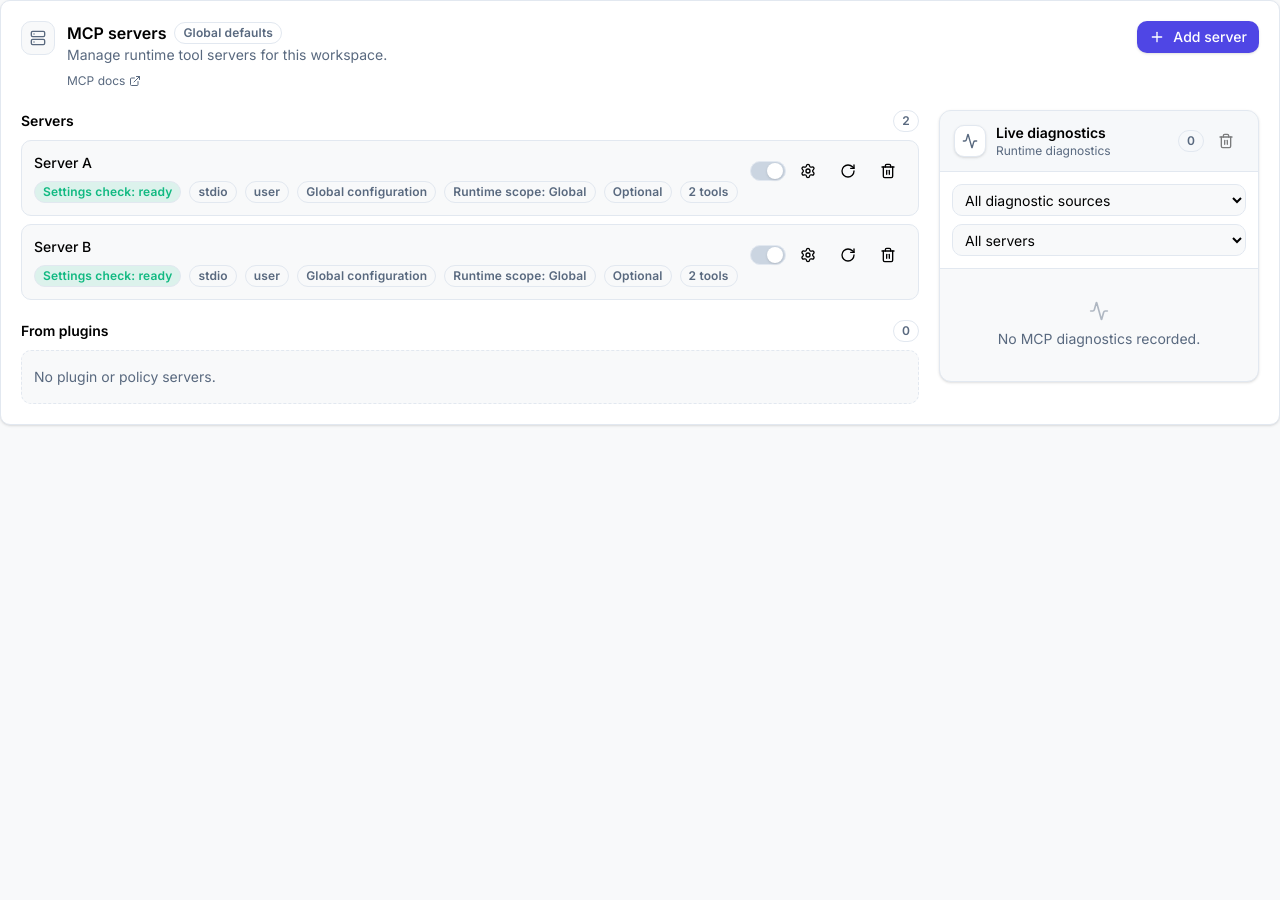
MCPManager › ignores stale config detail responses after opening another server
This screenshot has width=1280, height=900.
Click the button named "Configure Server A" at (808, 171), box [790,153,826,189]
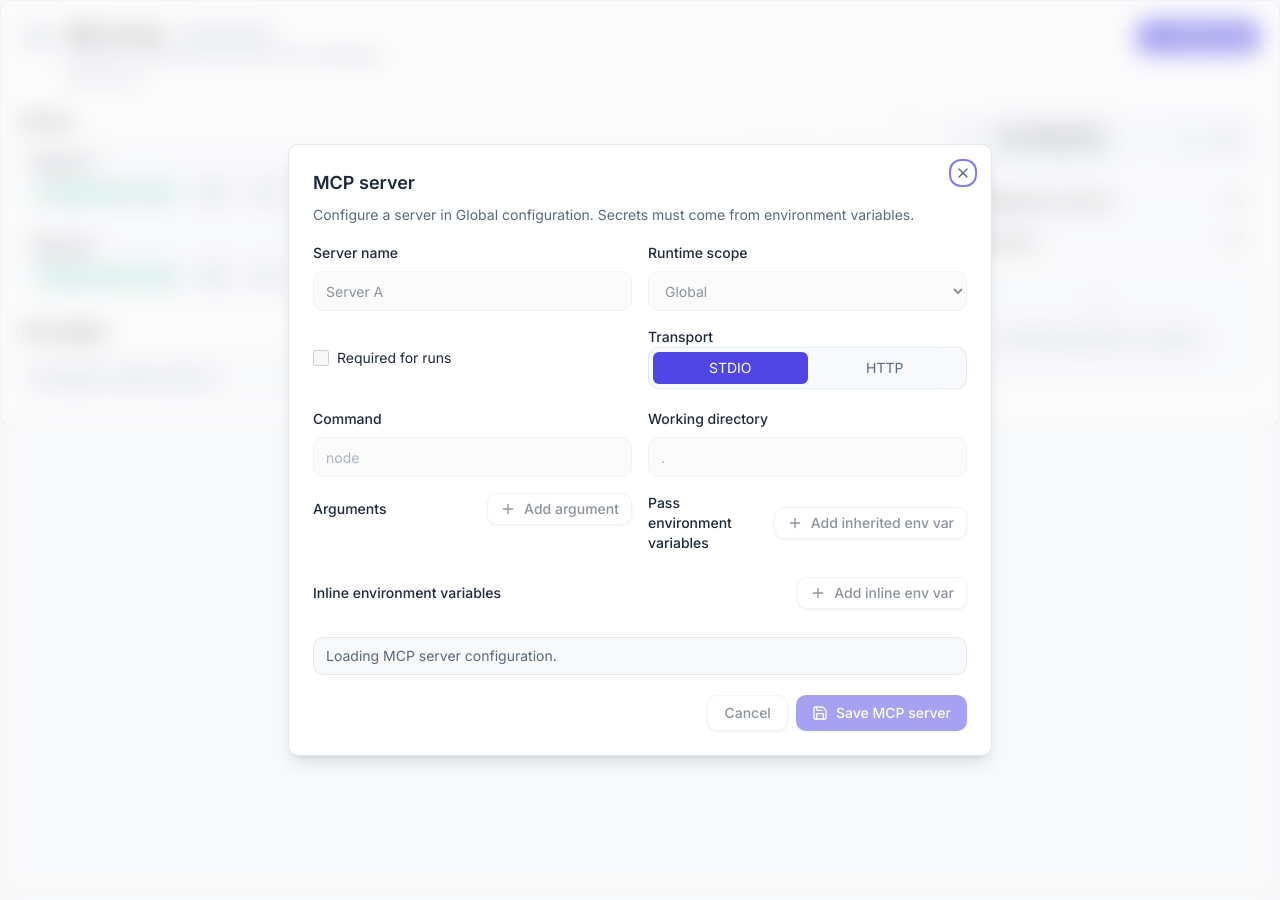
Press Escape
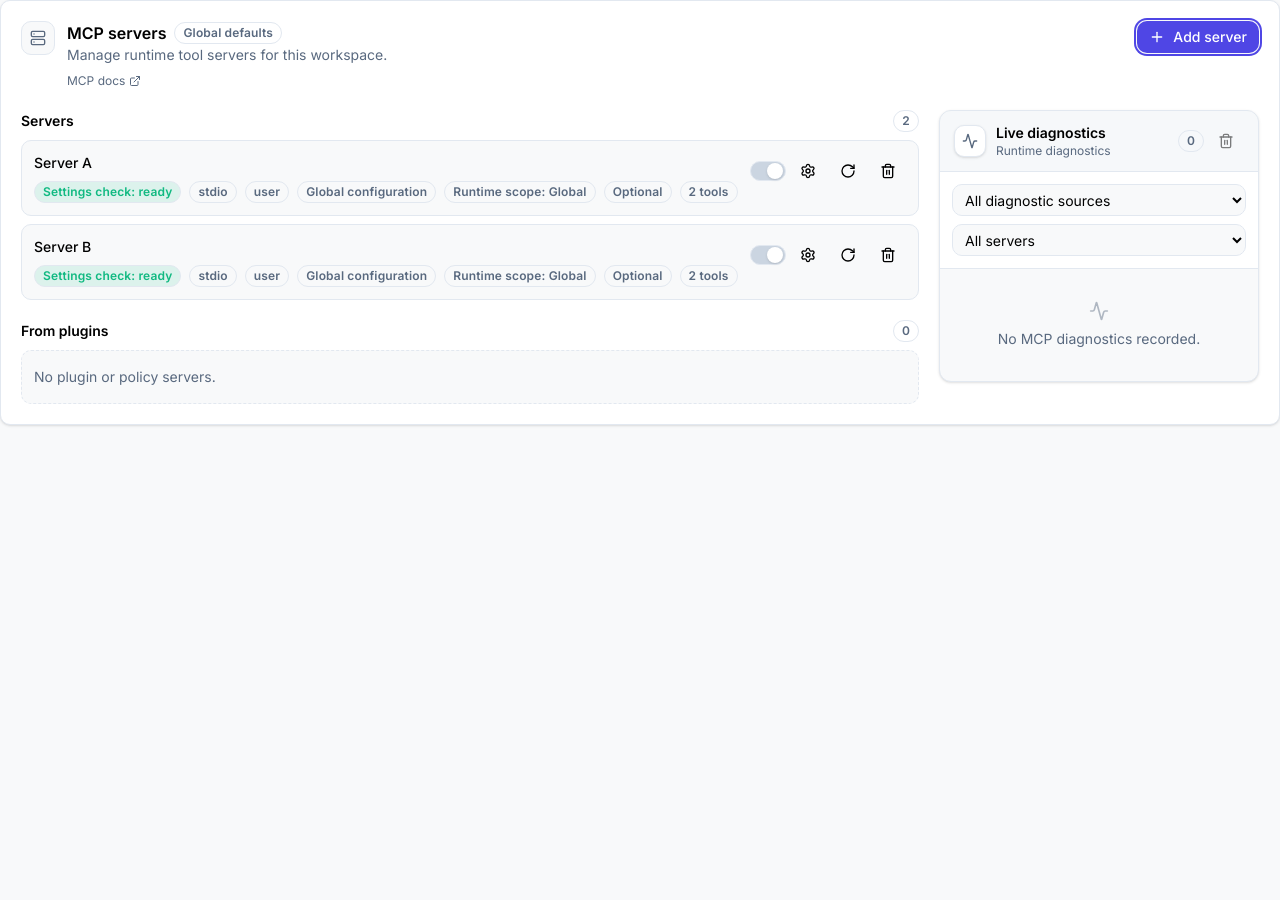
Now the dialog is gone
Click the button named "Configure Server B" at (808, 255), box [790,237,826,273]
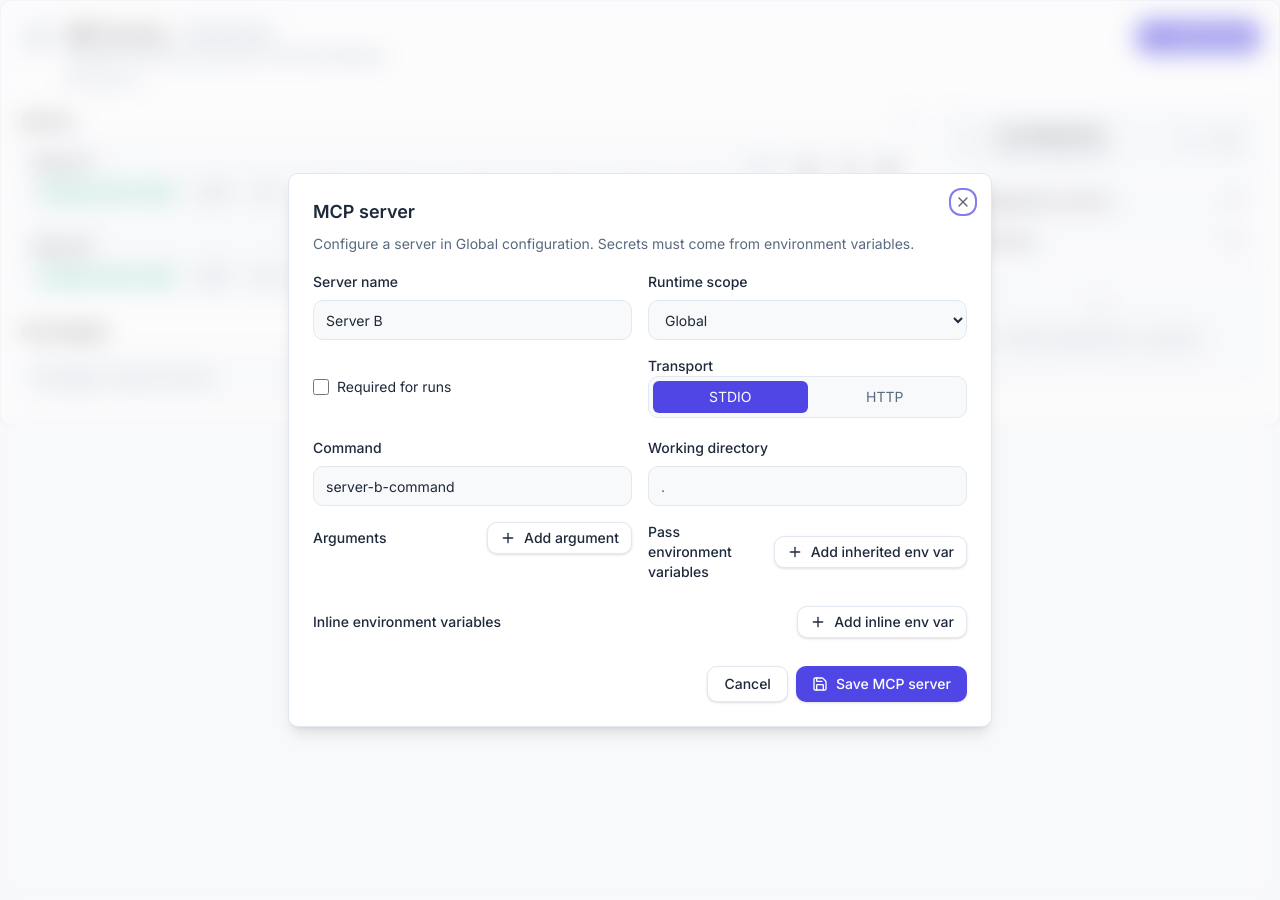
Now the field showing "server-b-command" is shown, box [313,466,632,506]
Now the button "Save MCP server" is enabled, box [796,666,967,702]
